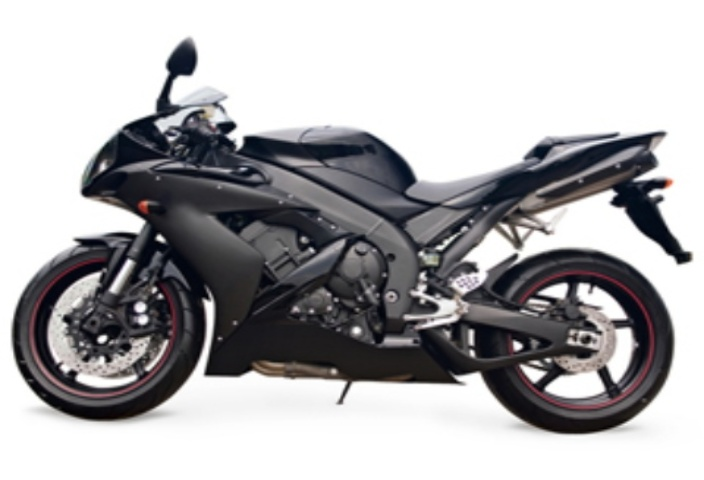motorcycle: (9, 29, 704, 440)
